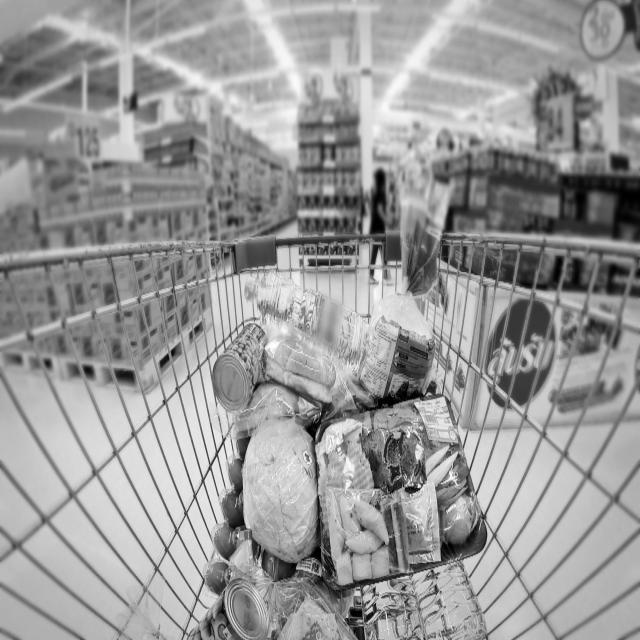banh mi: (363, 202, 441, 410), (275, 580, 355, 640)
bap cai: (243, 426, 325, 562)
dau: (239, 267, 377, 383)
trung: (208, 441, 262, 592)
